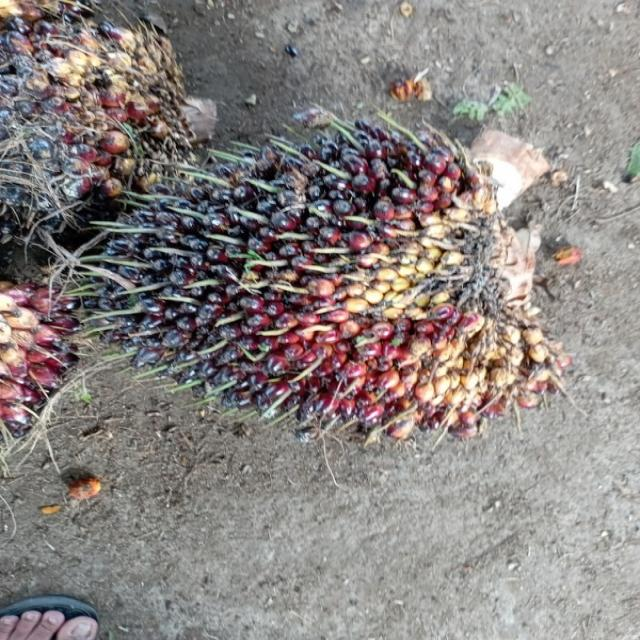fraksi 1: (68, 98, 606, 479)
